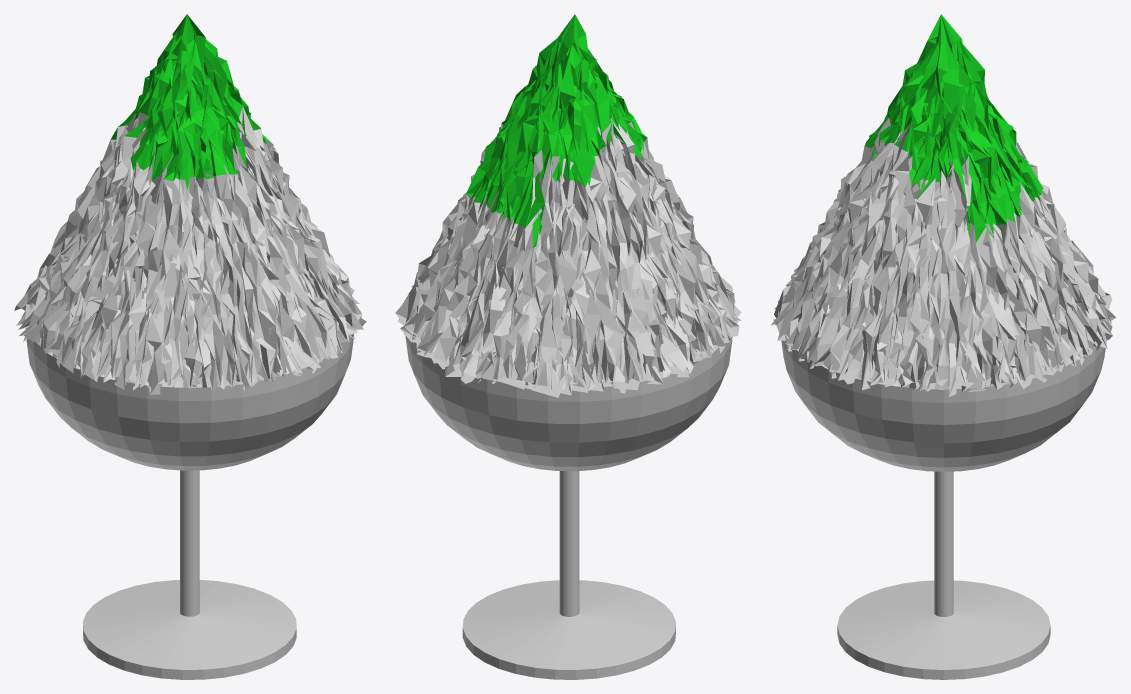
Rendered from Glass4.fbx.
3 views of the same model, side by side, from view 1: azimuth 30°, elevation 25°; view 2: azimuth 150°, elevation 25°; view 3: azimuth 270°, elevation 25° (orthographic).
Visible parts, largest first — view 1: Cube.001; view 2: Cube.001; view 3: Cube.001.
Part boxes in pixels (x1,y1,x2,y2): Cube.001: (14,14,366,679); Cube.001: (395,14,741,679); Cube.001: (771,14,1116,679).
Size of the model in its own units: 256 by 515 by 261.
